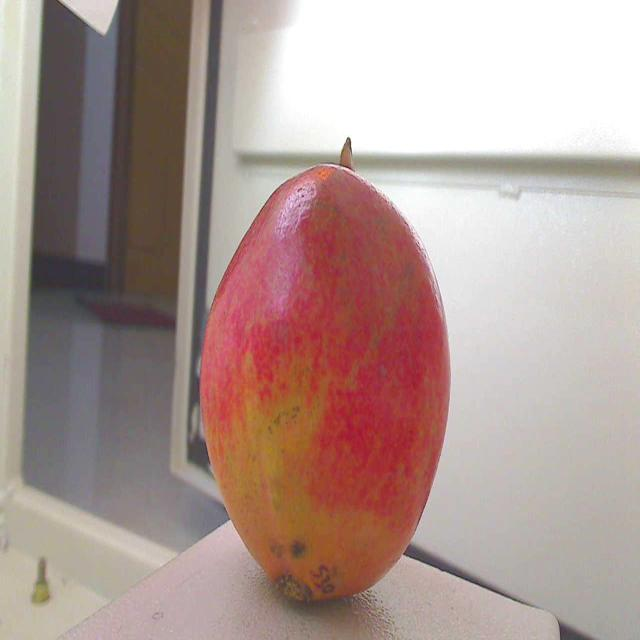pomegranate: (191, 89, 462, 640)
